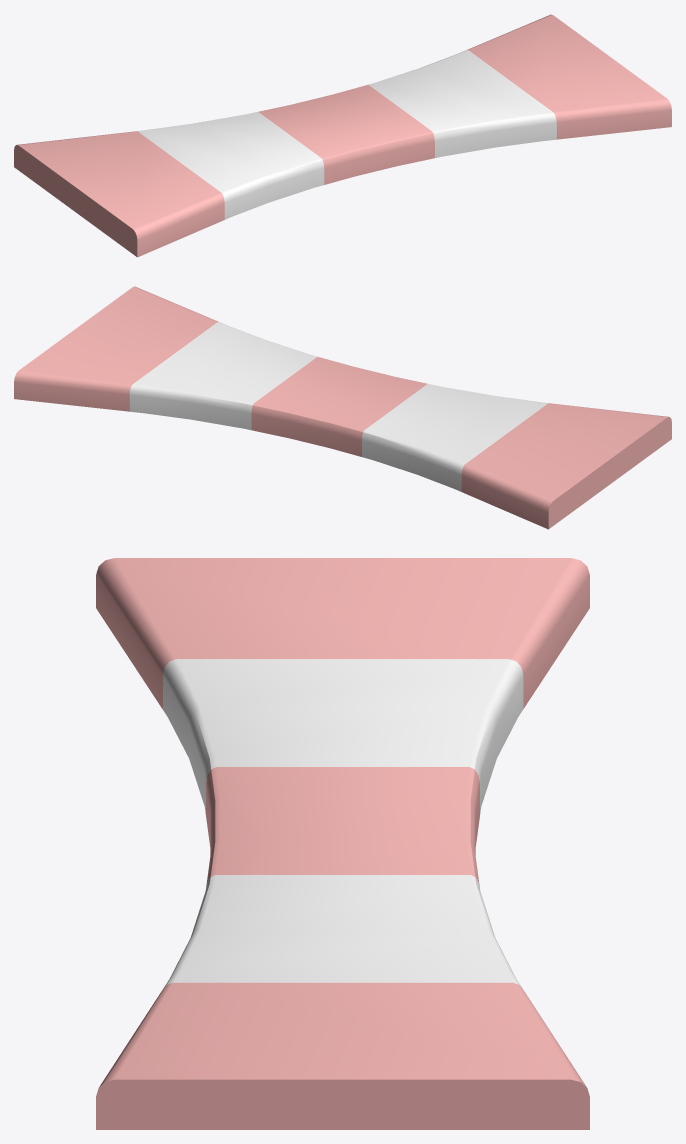
Rendered from RoadNarrow_red.fbx.
The picture shows the model from 3 angles, top to bottom: view 1: azimuth 30°, elevation 25°; view 2: azimuth 150°, elevation 25°; view 3: azimuth 270°, elevation 25°; orthographic projection. The views are drawn at different scales.
Parts seen in each view (by area): view 1: RoadNarrow_red; view 2: RoadNarrow_red; view 3: RoadNarrow_red.
Boxes of the visible parts, <box> form: RoadNarrow_red: <box>14,14,671,257</box>; RoadNarrow_red: <box>14,286,671,529</box>; RoadNarrow_red: <box>96,558,589,1129</box>.
Size of the model in its own units: 750 by 33.61 by 300.
Materials: 1 (1 with a texture image).
